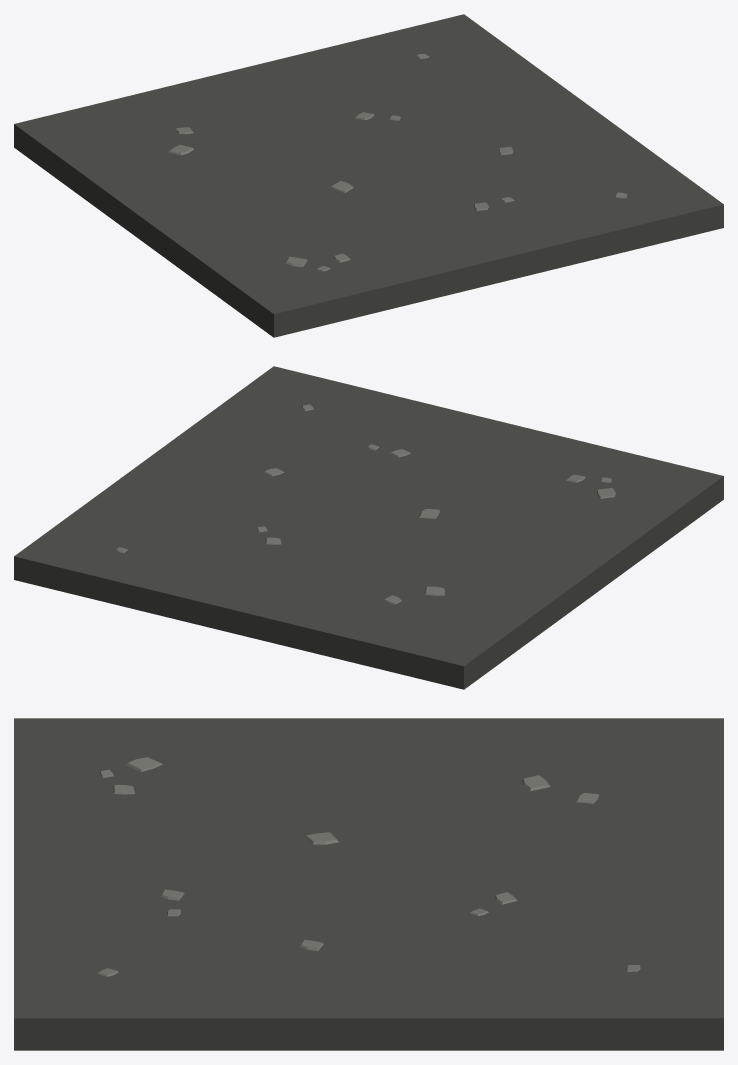
The model's file is floor_5.glb.
The picture shows the model from 3 angles, top to bottom: view 1: azimuth 30°, elevation 25°; view 2: azimuth 150°, elevation 25°; view 3: azimuth 270°, elevation 25°; orthographic projection. The views are drawn at different scales.
Parts seen in each view (by area): view 1: Floor_5; view 2: Floor_5; view 3: Floor_5.
Part boxes in pixels (<box>): Floor_5: <box>14,14,723,337</box>; Floor_5: <box>14,366,723,689</box>; Floor_5: <box>14,718,723,1050</box>.
Size of the model in its own units: 2 by 0.1072 by 2.
1 material, 1 textured.
